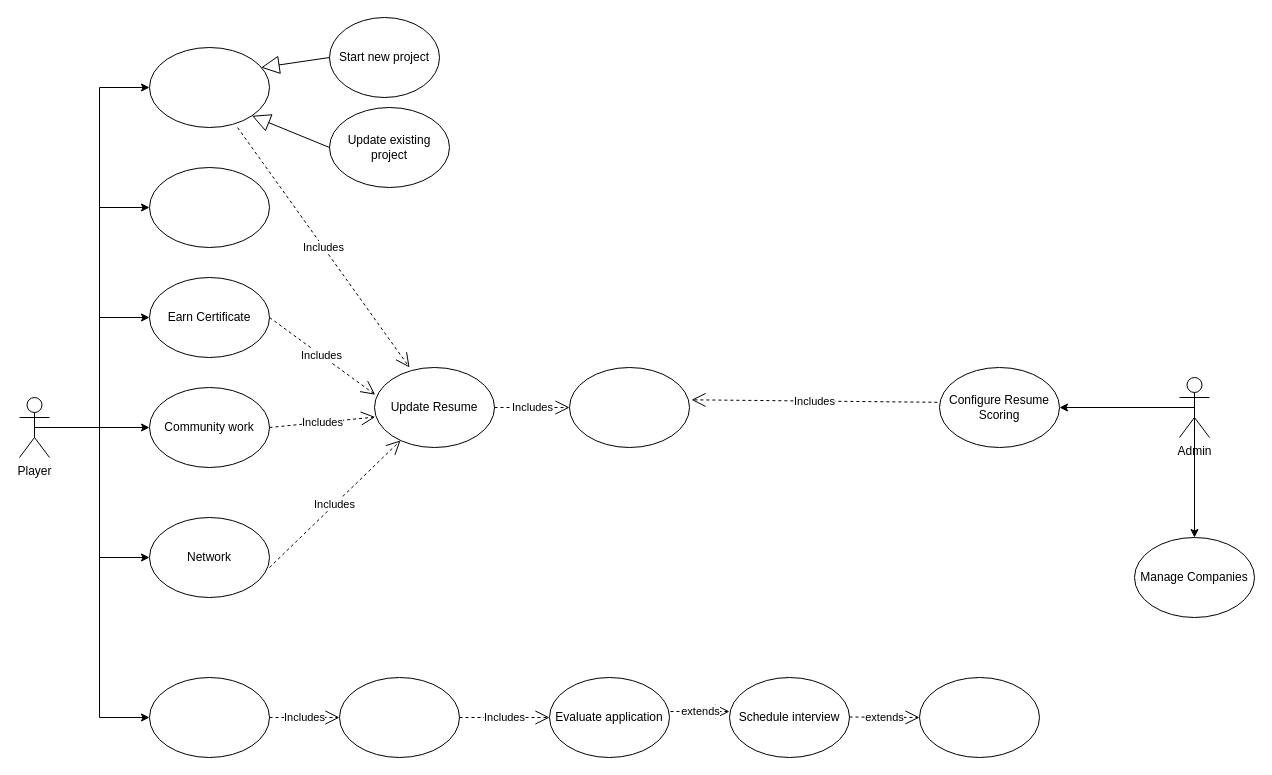
Image size: 1272x775. Some labels were removed from this diagram. Here are the shapes that lost their labels. From the top down, the centre of each, then its label:
At point (209, 87): "Manage projects".
At point (209, 207): "Login/Register".
At point (629, 407): "Calculate Resume Score".
At point (209, 717): "Submit Application".
At point (399, 717): "Select company".
At point (979, 717): "Pick job offer".
